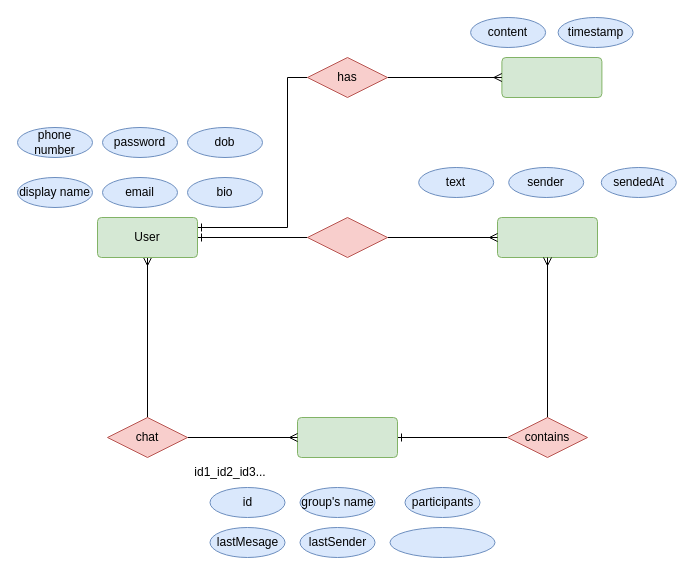
Some shapes in this 694 by 575 pixel diagram are drawn without their labels. The box of each missing label's shape, as (x1, y1, x2, y2) in pixels:
Conversation: (296, 416, 398, 458)
lastMesageTime: (389, 526, 495, 558)
Message: (496, 216, 598, 258)
Notification: (501, 56, 602, 98)
send: (306, 216, 388, 258)
